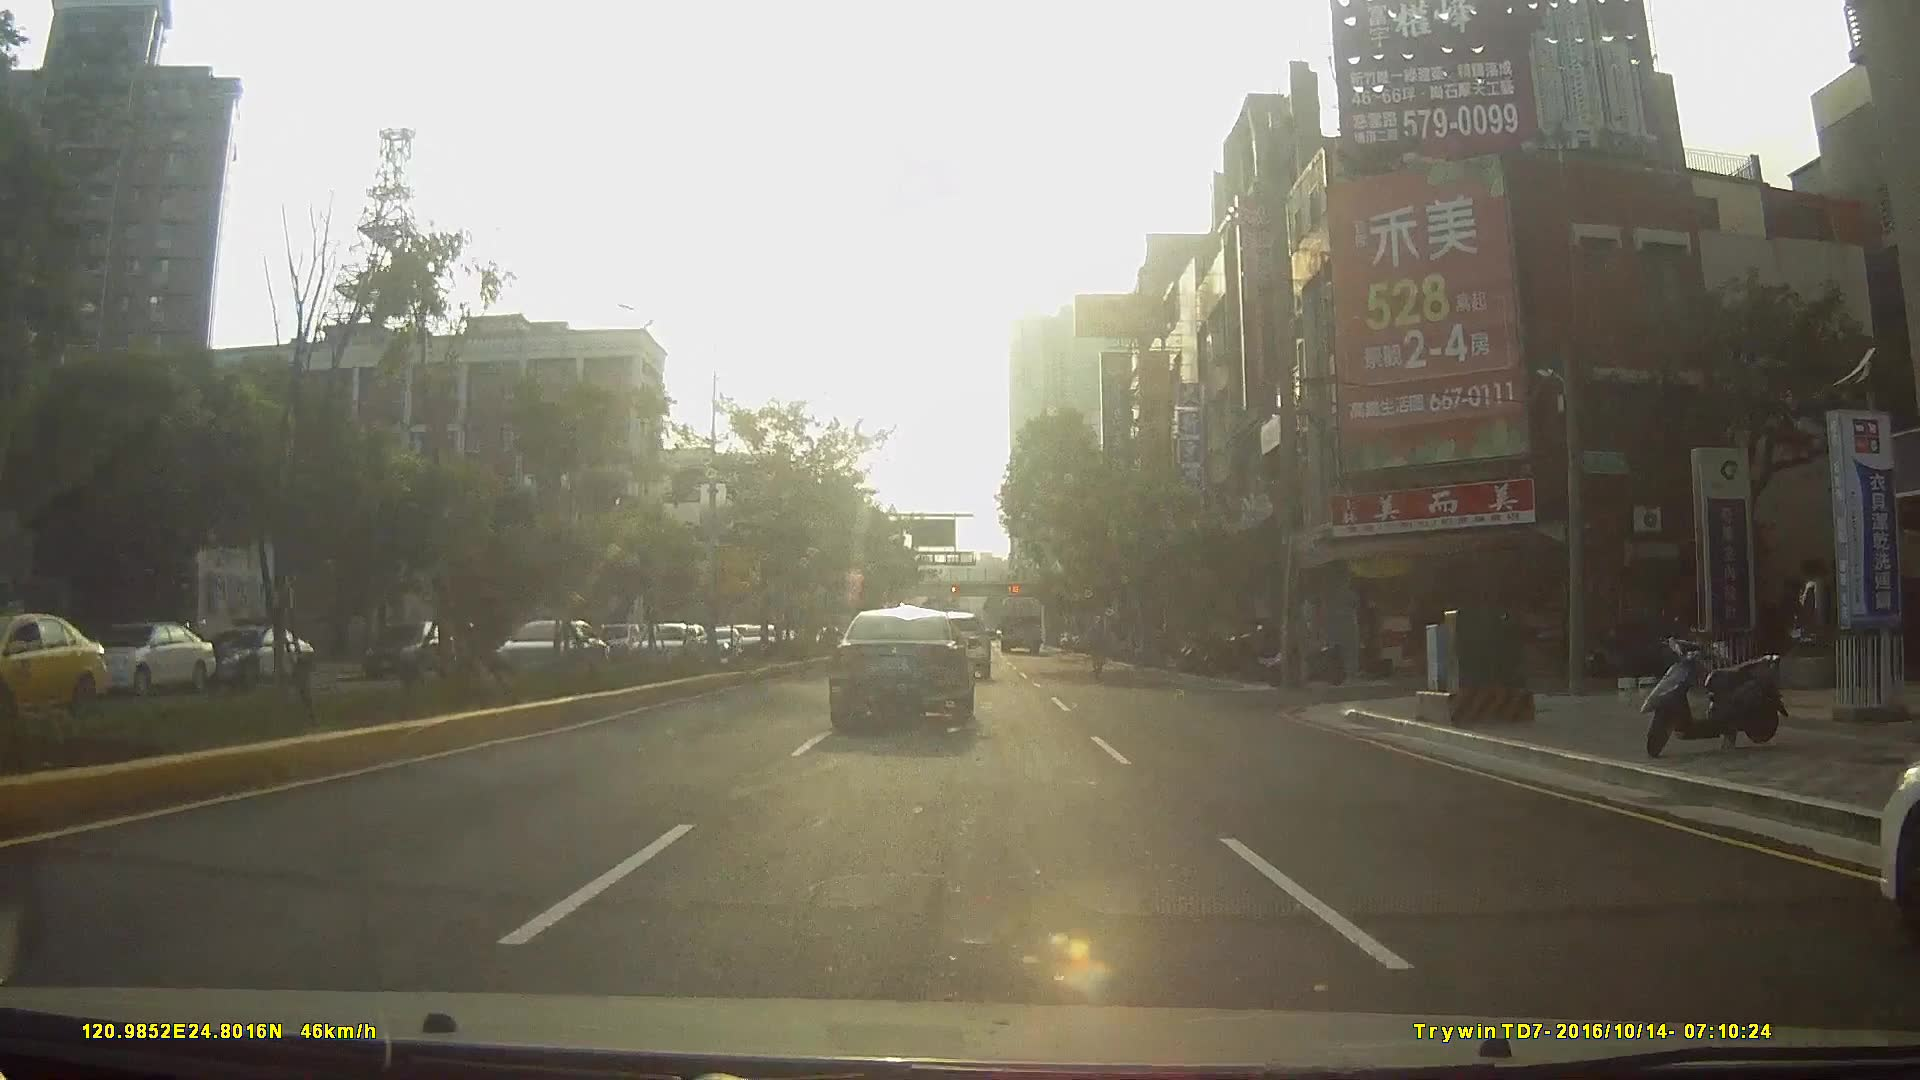vehicle: (827, 604, 975, 728), (1, 615, 117, 735), (57, 618, 207, 694), (186, 622, 309, 688), (476, 616, 599, 680), (353, 615, 454, 676), (618, 618, 699, 670), (998, 592, 1044, 654), (591, 621, 636, 661)
